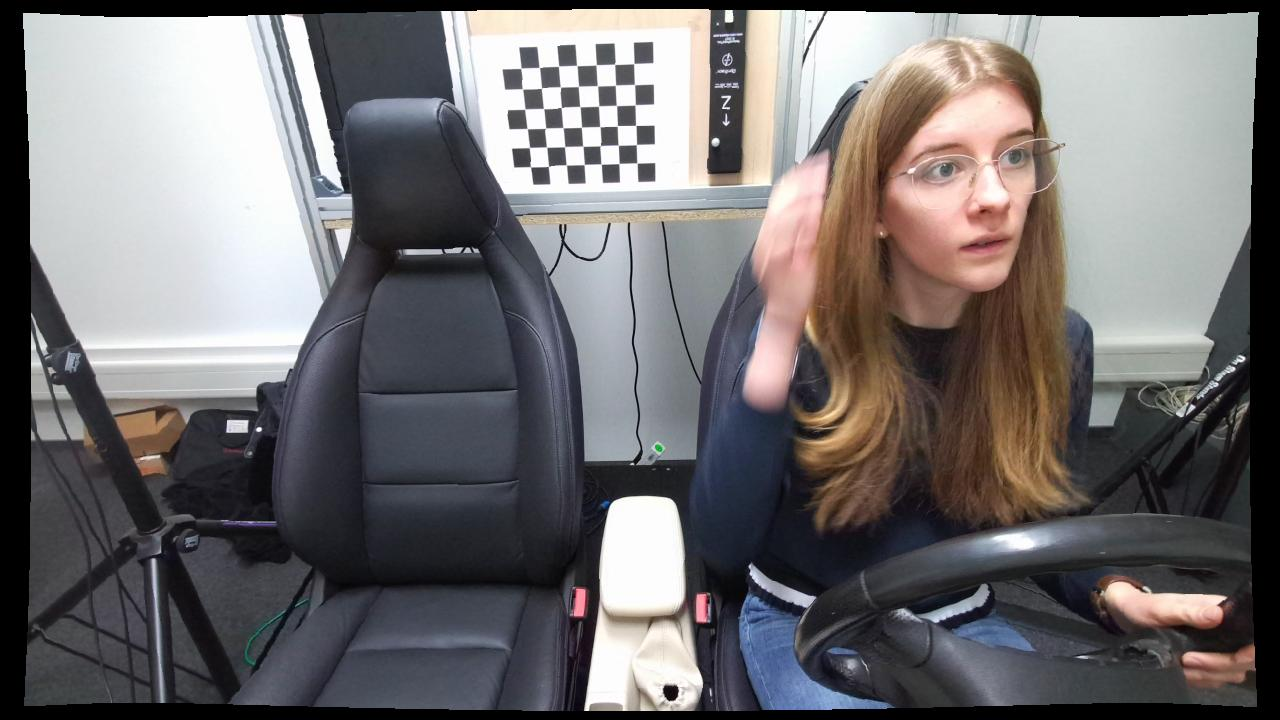Distracted: (679, 34, 1126, 720)
